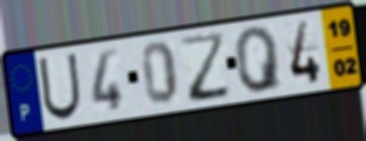0: (139, 39, 181, 109)
4: (89, 47, 127, 115), (288, 19, 323, 87)
Q: (232, 24, 285, 96)
U: (36, 51, 83, 123)
Z: (177, 28, 234, 105)
